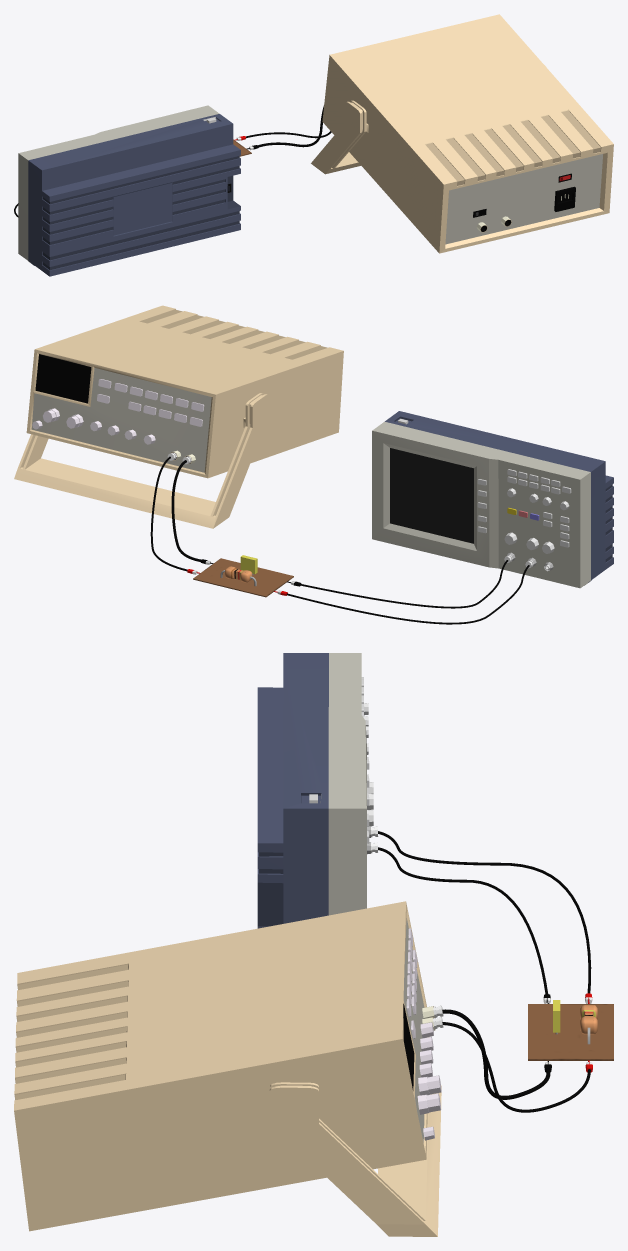
Rendered from LPF_RC_cables.gltf.
The picture shows the model from 3 angles, top to bottom: view 1: azimuth 30°, elevation 25°; view 2: azimuth 150°, elevation 25°; view 3: azimuth 270°, elevation 25°; orthographic projection. The views are drawn at different scales.
Parts seen in each view (by area): view 1: penjepit osiloskop output; view 2: penjepit osiloskop output; view 3: penjepit osiloskop output.
Part boxes in pixels (<box>): penjepit osiloskop output: <box>14,14,613,276</box>; penjepit osiloskop output: <box>14,305,613,624</box>; penjepit osiloskop output: <box>14,653,613,1236</box>.
Bounding box in the file's own units: 1.01 × 0.2249 × 0.6255.
Materials: 25 (1 with a texture image).
